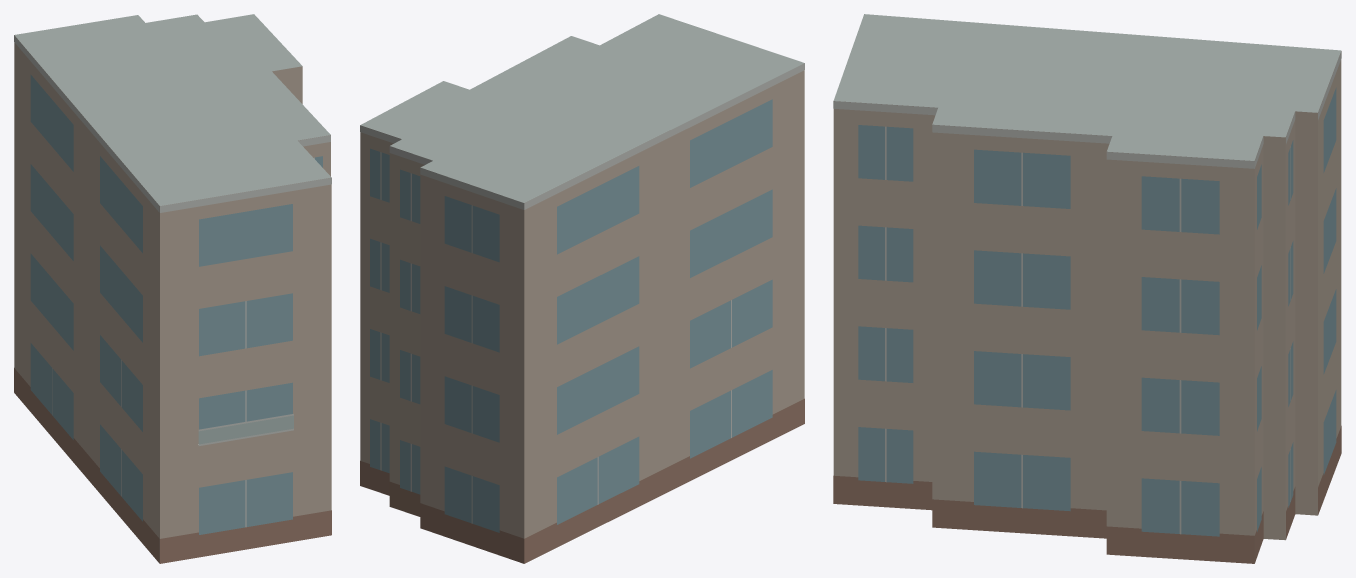
File: survey-upis-32997919.glb
3 views of the same model, side by side, from view 1: azimuth 30°, elevation 25°; view 2: azimuth 150°, elevation 25°; view 3: azimuth 270°, elevation 25° (orthographic). The views are drawn at different scales.
Parts seen in each view (by area): view 1: survey-upis-32997919.tmp; view 2: survey-upis-32997919.tmp; view 3: survey-upis-32997919.tmp.
Boxes of the visible parts, bbox=[...] form: survey-upis-32997919.tmp: bbox=[14, 14, 331, 563]; survey-upis-32997919.tmp: bbox=[360, 14, 804, 563]; survey-upis-32997919.tmp: bbox=[833, 14, 1341, 563].
Bounding box in the file's own units: 9.87 × 12.6 × 14.41.
